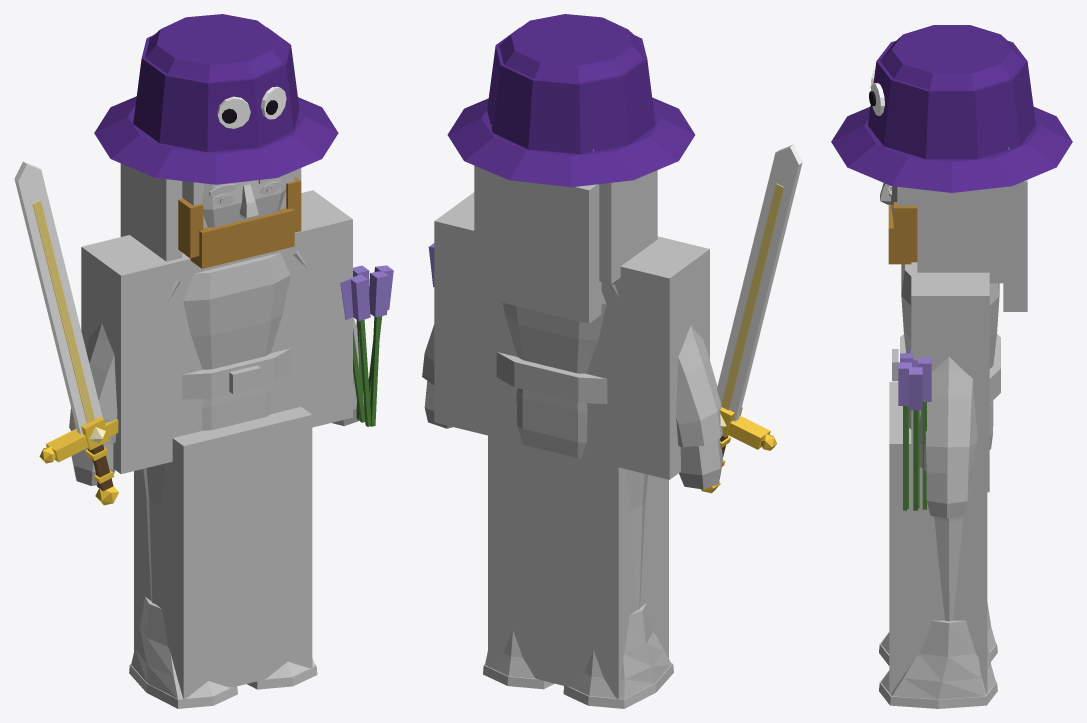
Rendered from kadro-egetunce.obj.
3 renders of one model, left to right at view 1: azimuth 30°, elevation 25°; view 2: azimuth 150°, elevation 25°; view 3: azimuth 270°, elevation 25°, orthographic. The views are drawn at different scales.
Visible parts, largest first — view 1: kalkaneri-uzak-bacak, kalkaneri-uzak-govde, egetunce-sapka, kalkaneri-govde, egetunce-sapka-kenari, egetunce-kilic, egetunce-sakal, egetunce-uzun-sac, kalkaneri-cizmeler, kalkaneri-kemer, kalkaneri-kollar, egetunce-lavanta (+10 smaller); view 2: kalkaneri-uzak-bacak, kalkaneri-uzak-govde, egetunce-uzun-sac, egetunce-sapka, egetunce-sapka-kenari, kalkaneri-govde, egetunce-kilic, kalkaneri-cizmeler, kalkaneri-kollar, kalkaneri-kemer, egetunce-kilic-isigi, kalkaneri-eller (+3 smaller); view 3: egetunce-sapka, kalkaneri-uzak-bacak, egetunce-uzun-sac, kalkaneri-uzak-govde, egetunce-sapka-kenari, kalkaneri-cizmeler, kalkaneri-kollar, kalkaneri-bacaklar, kalkaneri-eller, kalkaneri-govde, egetunce-lavanta-sapi, egetunce-sakal (+3 smaller).
Part boxes in pixels (x1,y1,x2,y2): kalkaneri-uzak-bacak: [134, 407, 312, 698]; kalkaneri-uzak-govde: [81, 190, 352, 473]; egetunce-sapka: [133, 14, 299, 152]; kalkaneri-govde: [183, 252, 290, 430]; egetunce-sapka-kenari: [94, 96, 338, 184]; egetunce-kilic: [14, 161, 102, 434]; egetunce-sakal: [178, 177, 301, 268]; egetunce-uzun-sac: [120, 163, 301, 261]; kalkaneri-cizmeler: [131, 597, 314, 698]; kalkaneri-kemer: [182, 348, 291, 399]; kalkaneri-kollar: [69, 250, 359, 443]; egetunce-lavanta: [340, 265, 393, 320]; kalkaneri-uzak-bacak: [488, 435, 668, 698]; kalkaneri-uzak-govde: [434, 192, 709, 479]; egetunce-uzun-sac: [474, 165, 657, 323]; egetunce-sapka: [487, 14, 655, 154]; egetunce-sapka-kenari: [447, 97, 695, 187]; kalkaneri-govde: [502, 291, 606, 458]; egetunce-kilic: [717, 144, 802, 421]; kalkaneri-cizmeler: [485, 603, 671, 698]; kalkaneri-kollar: [422, 284, 722, 447]; kalkaneri-kemer: [496, 352, 607, 404]; egetunce-kilic-isigi: [721, 183, 784, 410]; kalkaneri-eller: [424, 381, 722, 489]; egetunce-sapka: [868, 25, 1035, 159]; kalkaneri-uzak-bacak: [889, 382, 987, 694]; egetunce-uzun-sac: [917, 180, 1027, 311]; kalkaneri-uzak-govde: [911, 262, 989, 492]; egetunce-sapka-kenari: [831, 107, 1072, 192]; kalkaneri-cizmeler: [881, 602, 995, 699]; kalkaneri-kollar: [910, 287, 990, 473]; kalkaneri-bacaklar: [934, 492, 969, 621]; kalkaneri-eller: [926, 472, 968, 518]; kalkaneri-govde: [901, 264, 999, 449]; egetunce-lavanta-sapi: [903, 402, 926, 510]; egetunce-sakal: [888, 202, 917, 264].
Size of the model in its own units: 27.87 by 45.45 by 16.
